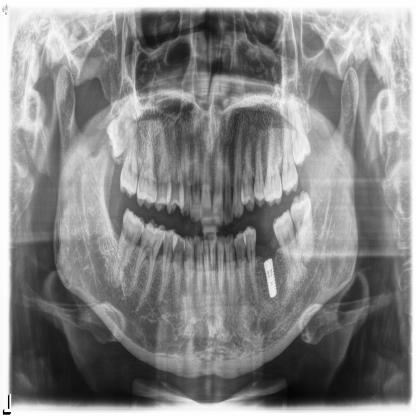ITI: (262, 256, 282, 300)
